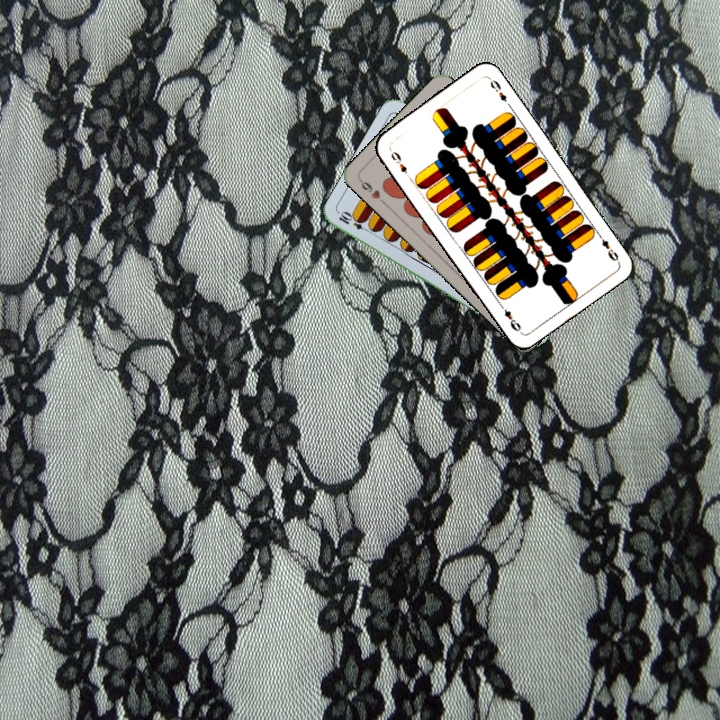E10: (335, 208, 373, 235)
E9: (593, 229, 621, 265), (385, 145, 410, 176)
H9: (355, 175, 388, 207)
